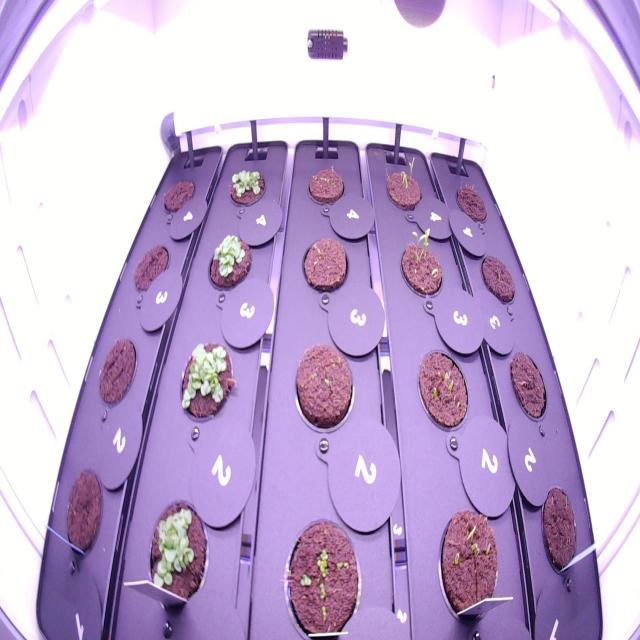germination: (276, 505, 365, 639), (433, 504, 504, 629), (141, 492, 212, 613), (172, 330, 238, 430), (411, 341, 473, 439), (398, 221, 447, 306), (201, 229, 256, 298), (378, 148, 426, 222), (224, 159, 268, 210)
pod: (288, 334, 357, 442), (56, 461, 108, 571), (534, 479, 582, 591), (504, 345, 551, 434), (299, 231, 354, 298), (94, 333, 141, 411), (475, 247, 519, 312), (129, 238, 173, 300), (304, 156, 348, 213), (451, 175, 492, 232), (158, 172, 198, 223)
